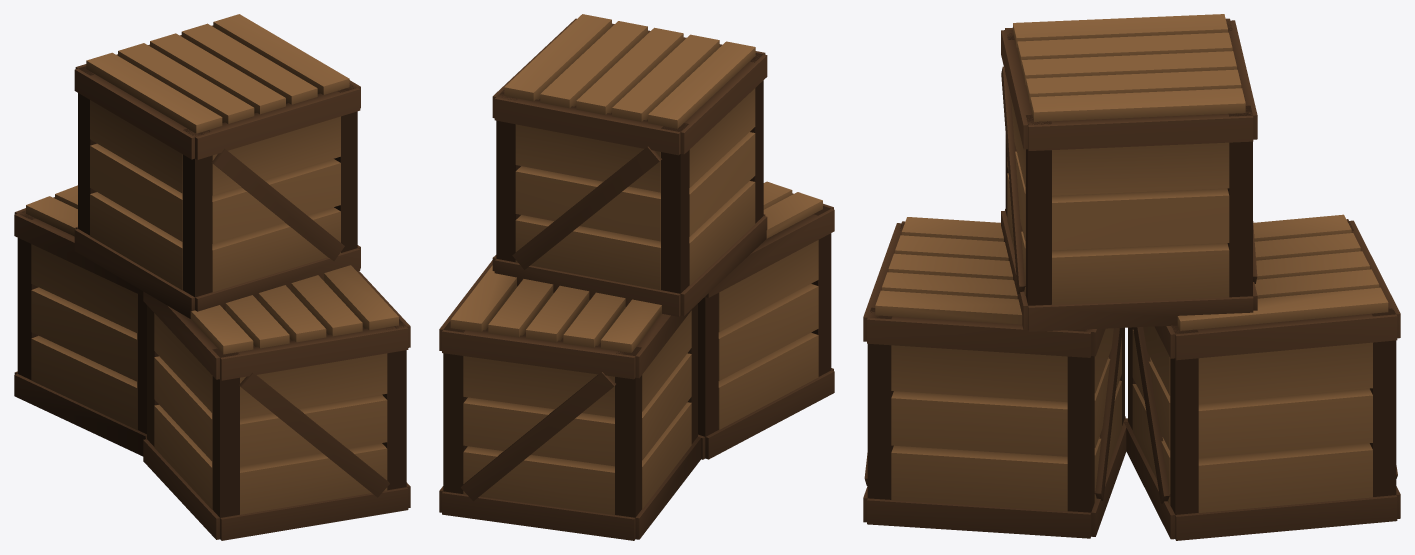
The model's file is crate-stack.glb.
3 views of the same model, side by side, from view 1: azimuth 30°, elevation 25°; view 2: azimuth 150°, elevation 25°; view 3: azimuth 270°, elevation 25° (orthographic). The views are drawn at different scales.
Parts seen in each view (by area): view 1: wood, frame; view 2: wood, frame; view 3: wood, frame.
Boxes of the visible parts, x1,y1,x2,y2 form: wood: [26, 14, 398, 514]; frame: [14, 25, 410, 540]; wood: [450, 14, 822, 515]; frame: [439, 18, 834, 540]; wood: [875, 14, 1388, 512]; frame: [863, 18, 1400, 540].
Size of the model in its own units: 0.4171 by 0.696 by 0.809.
